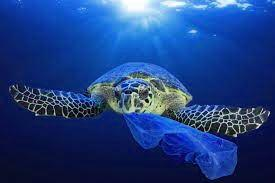Trash: (124, 106, 244, 182)
